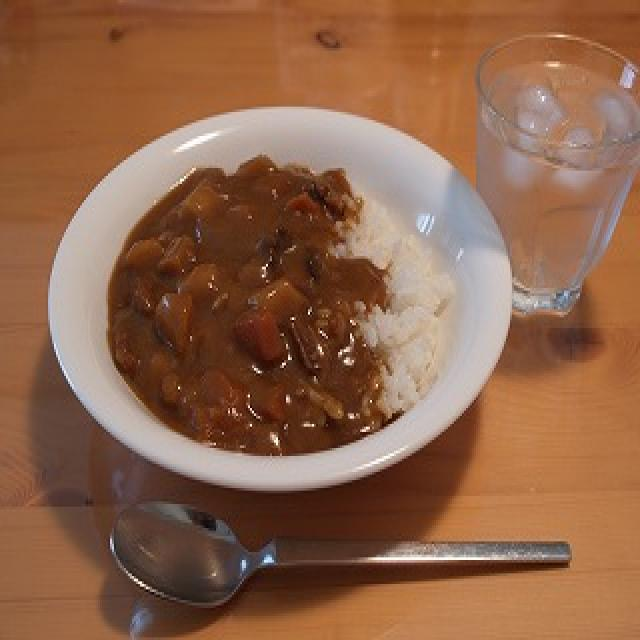牛肉菜式: (44, 101, 508, 491)
